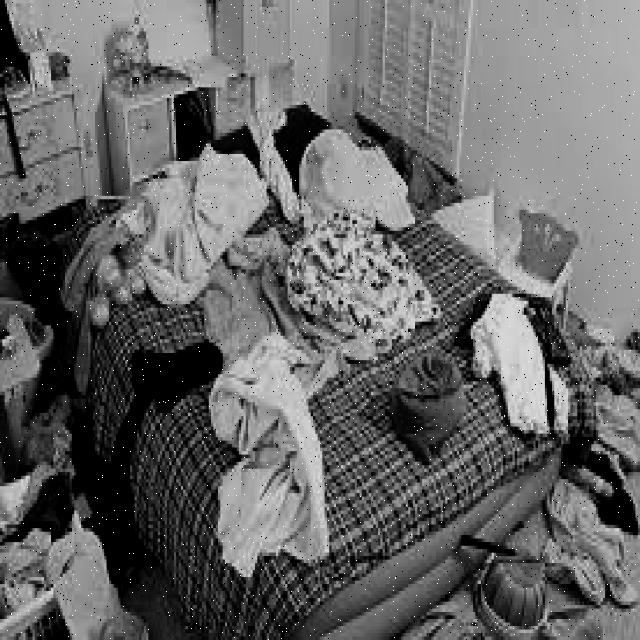bed: (60, 101, 575, 640)
